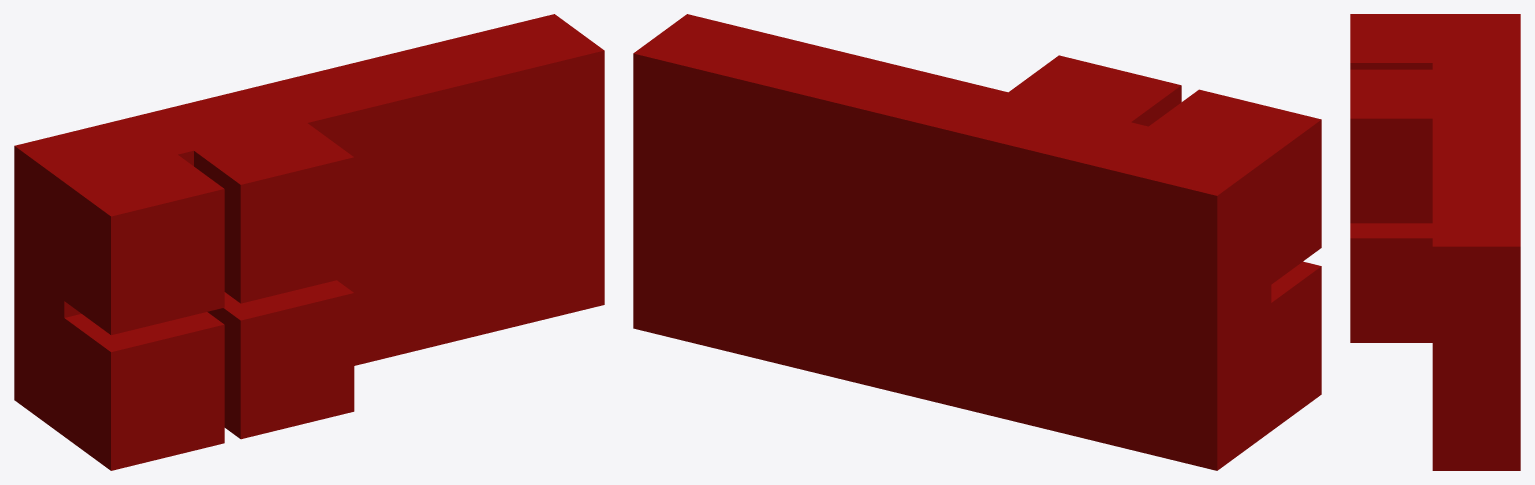
The model's file is blochet_gauche.glb.
3 views of the same model, side by side, from view 1: azimuth 30°, elevation 25°; view 2: azimuth 150°, elevation 25°; view 3: azimuth 270°, elevation 25° (orthographic). The views are drawn at different scales.
Bounding box in the file's own units: 10 × 4.5 × 3.1.
